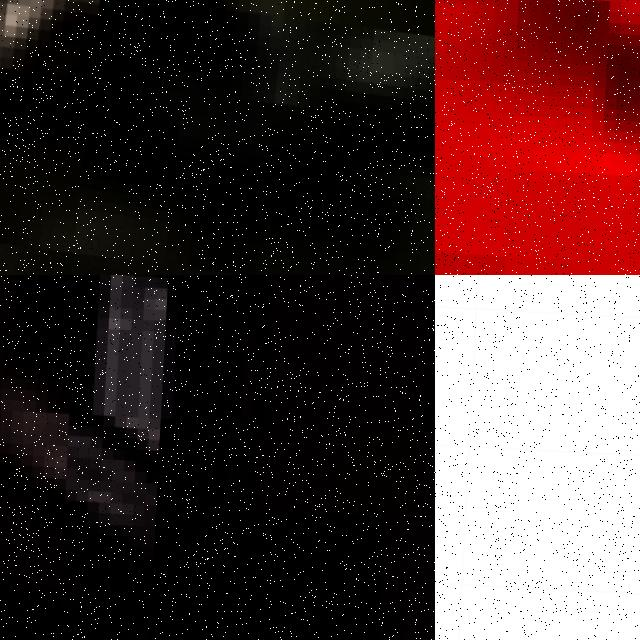drone: (0, 0, 435, 275)
